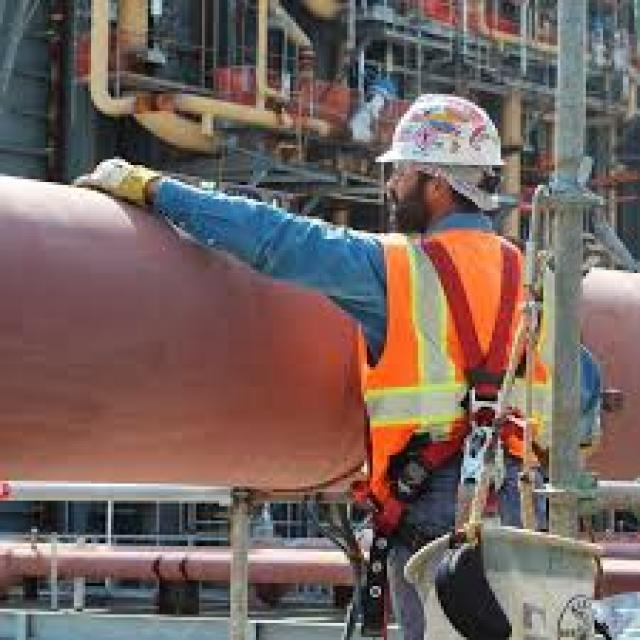Reflective-Jacket: (347, 219, 535, 503)
Safety-Helmet: (364, 86, 526, 196)
